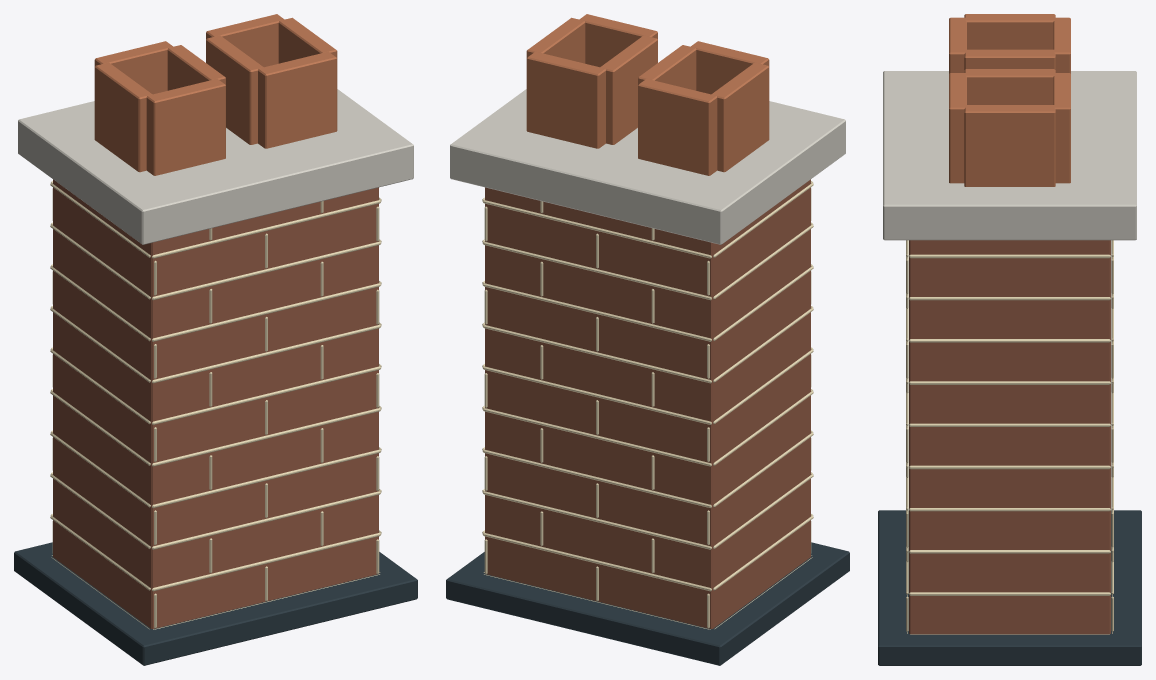
Rendered from b12_masonry_chimney_stack.glb.
3 renders of one model, left to right at view 1: azimuth 30°, elevation 25°; view 2: azimuth 150°, elevation 25°; view 3: azimuth 270°, elevation 25°, orthographic.
Visible parts, largest first — view 1: b12_masonry_chimney_stack; view 2: b12_masonry_chimney_stack; view 3: b12_masonry_chimney_stack.
Boxes of the visible parts, bbox=[...] form: b12_masonry_chimney_stack: bbox=[14, 14, 417, 665]; b12_masonry_chimney_stack: bbox=[446, 14, 849, 665]; b12_masonry_chimney_stack: bbox=[878, 14, 1141, 665].
Bounding box in the file's own units: 0.99 × 1.82 × 0.81.
